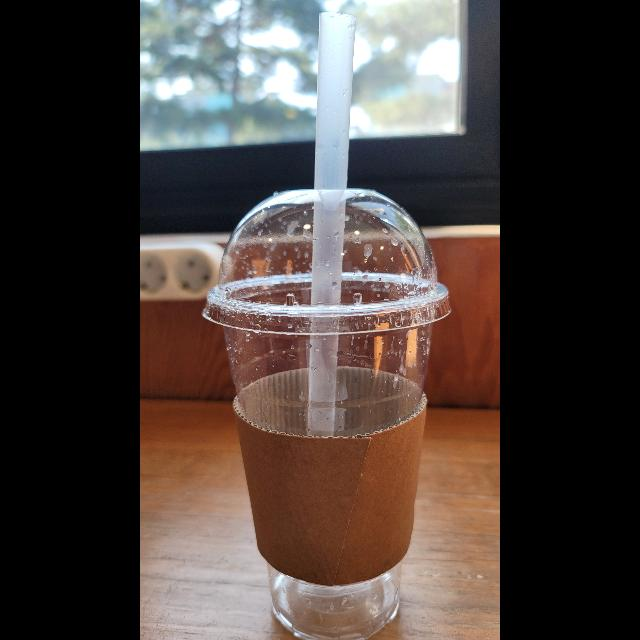plastic_cup: (198, 186, 456, 640), (312, 2, 361, 446)
plastic_cup_lid: (199, 191, 453, 337)
straw: (301, 1, 369, 440)
